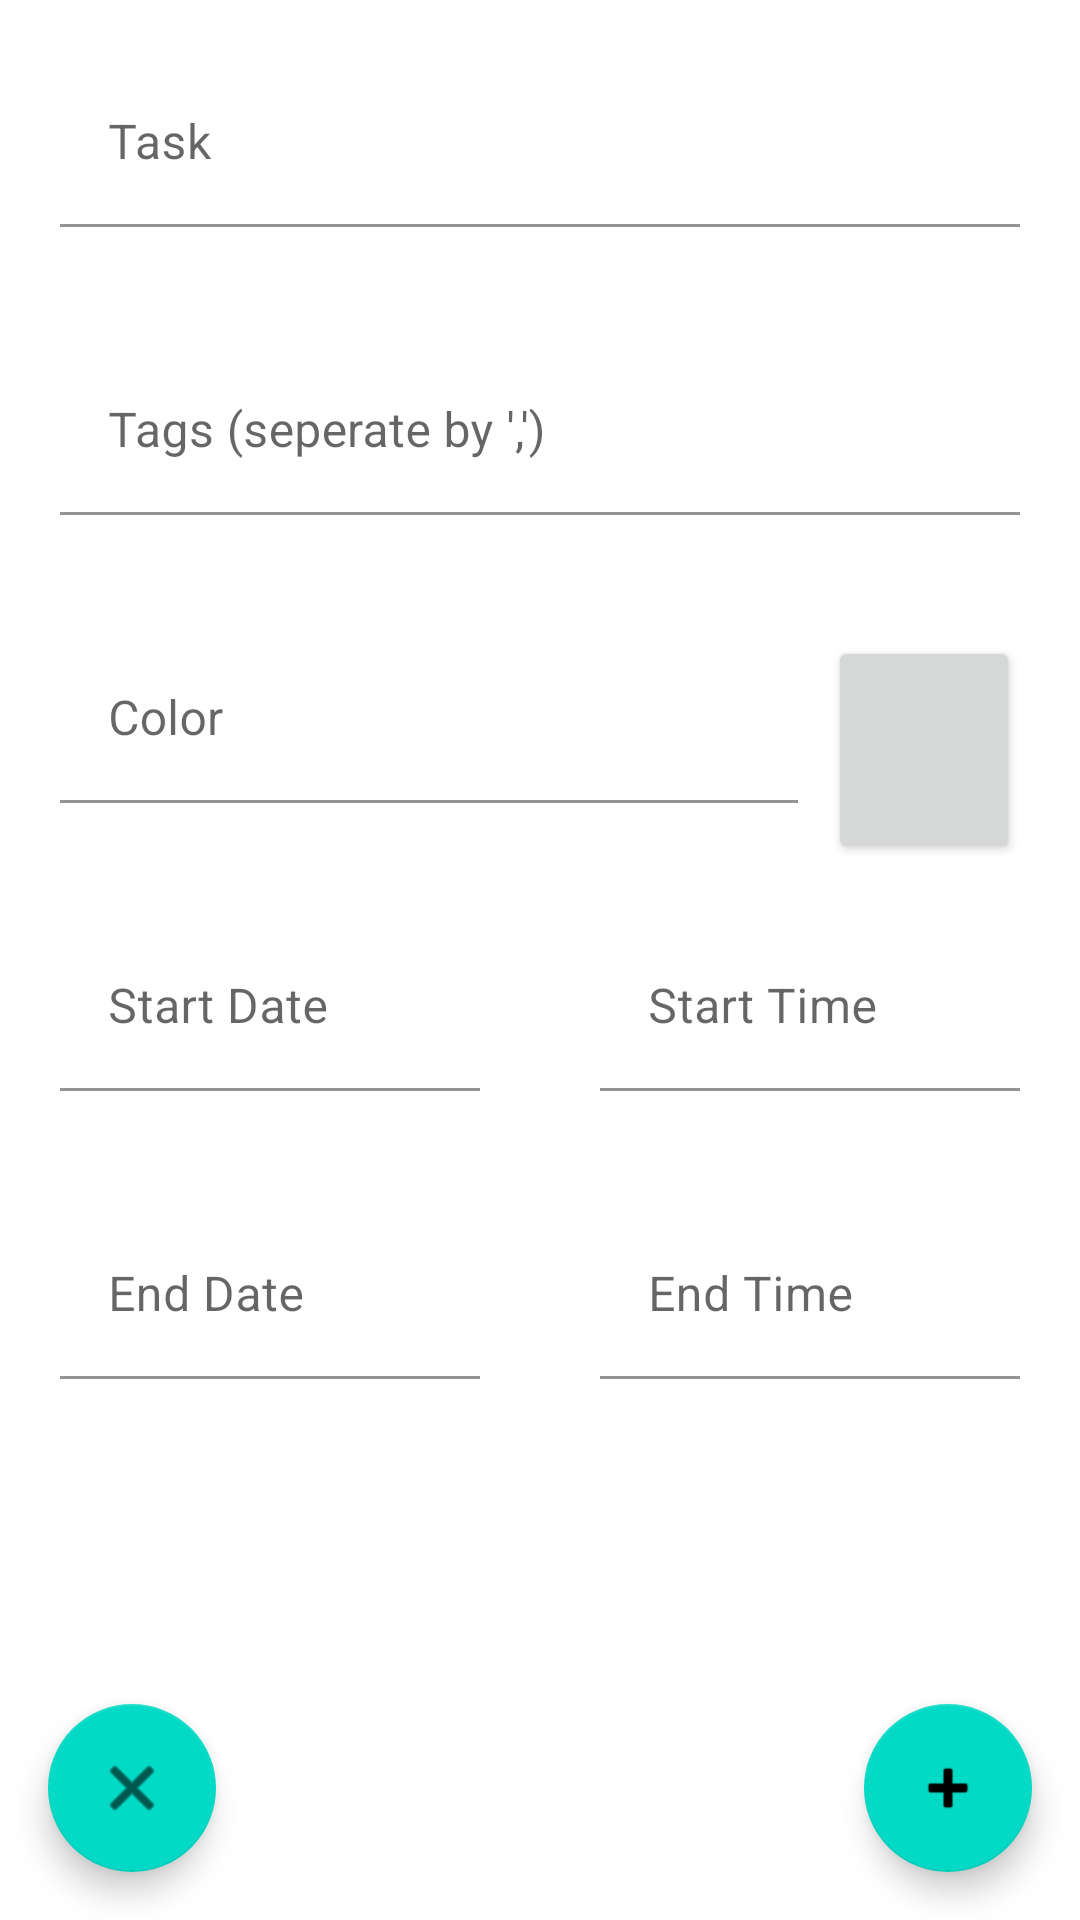

Screen size 1080 x 1920. Icon name, then its box in pixels as rect(x1, y1, x2, y2):
Add: rect(864, 1704, 1032, 1872)
Cancel: rect(48, 1704, 216, 1872)
